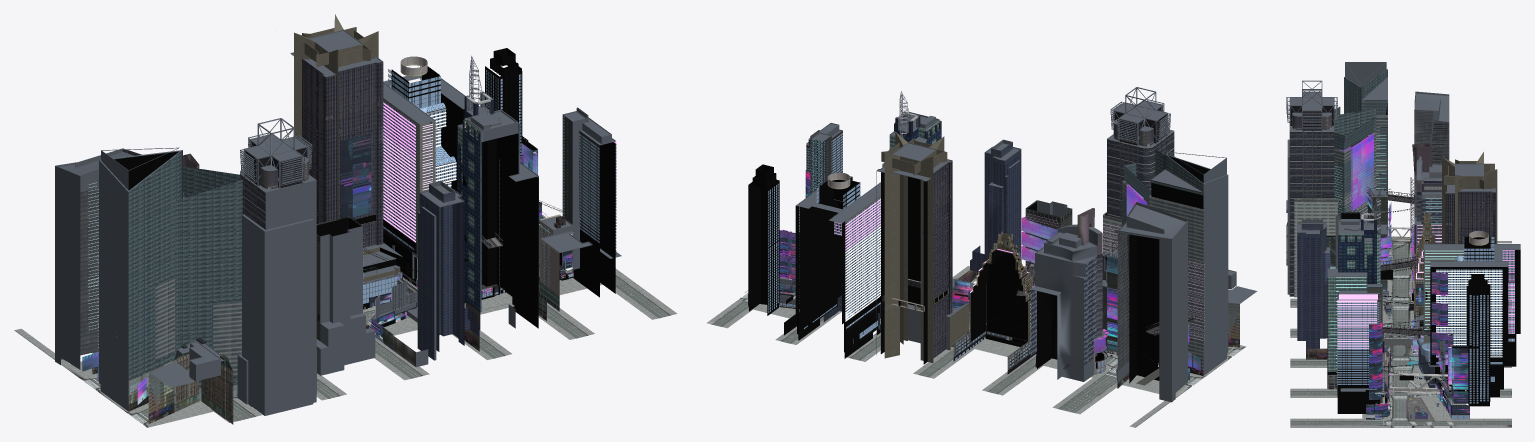
File: city28.glb
The picture shows the model from 3 angles, left to right: view 1: azimuth 30°, elevation 25°; view 2: azimuth 150°, elevation 25°; view 3: azimuth 270°, elevation 25°; orthographic projection. The views are drawn at different scales.
Visible parts, largest first — view 1: Object_180, Object_138, Object_26, Object_180.002, Object_41, Object_180.001, Object_113, Object_104, Object_32, Object_17, Object_38, Object_44 (+7 smaller); view 2: Object_26, Object_180, Object_41, Object_104, Object_32, Object_44, Object_113, Object_17, Object_38, Object_180.001, Object_44.002, Object_186 (+7 smaller); view 3: Object_180, Object_17, Object_32, Object_41, Object_44, Object_26, Object_180.002, Object_38, Object_180.001, Object_44.001, Object_104, Object_11.033 (+29 smaller).
Part boxes in pixels (x1,y1,x2,y2): Object_180: (80,58,538,360); Object_138: (237,56,518,415); Object_26: (114,66,615,328); Object_180.002: (175,166,251,406); Object_41: (92,14,491,424); Object_180.001: (114,150,182,404); Object_113: (99,147,396,411); Object_104: (55,30,382,369); Object_32: (14,214,677,427); Object_17: (363,66,616,342); Object_38: (59,118,315,381); Object_44: (355,48,536,309); Object_26: (749,156,1209,383); Object_180: (882,111,1187,370); Object_41: (827,101,1239,388); Object_104: (876,142,1187,402); Object_32: (706,266,1245,427); Object_44: (748,164,900,358); Object_113: (880,152,1257,375); Object_17: (768,133,1107,373); Object_38: (1107,87,1236,289); Object_180.001: (1149,154,1210,370); Object_44.002: (834,222,880,321); Object_186: (823,250,1200,380); Object_180: (1289,92,1495,371); Object_17: (1337,237,1514,419); Object_32: (1290,241,1511,427); Object_41: (1286,106,1514,343); Object_44: (1418,250,1520,404); Object_26: (1326,103,1502,413); Object_180.002: (1334,107,1376,223); Object_38: (1286,77,1448,267); Object_180.001: (1344,69,1387,232); Object_44.001: (1436,270,1502,357); Object_104: (1387,91,1495,287); Object_11.033: (1339,133,1373,210).
Bounding box in the file's own units: 29.8 × 20.82 × 15.74.
32 materials, 17 textured.
